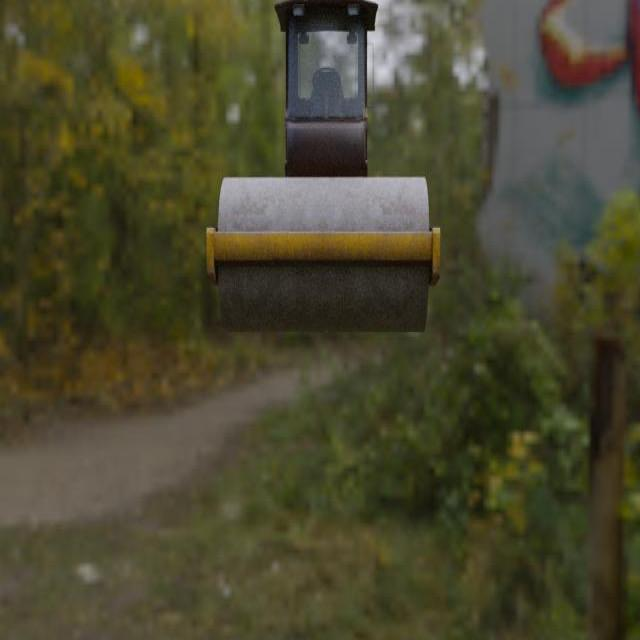Roller: (206, 0, 440, 333)
